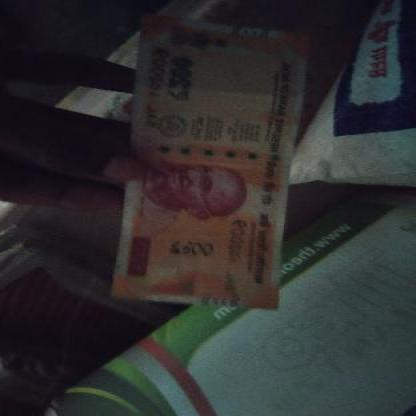New200Front: (107, 23, 302, 299)
